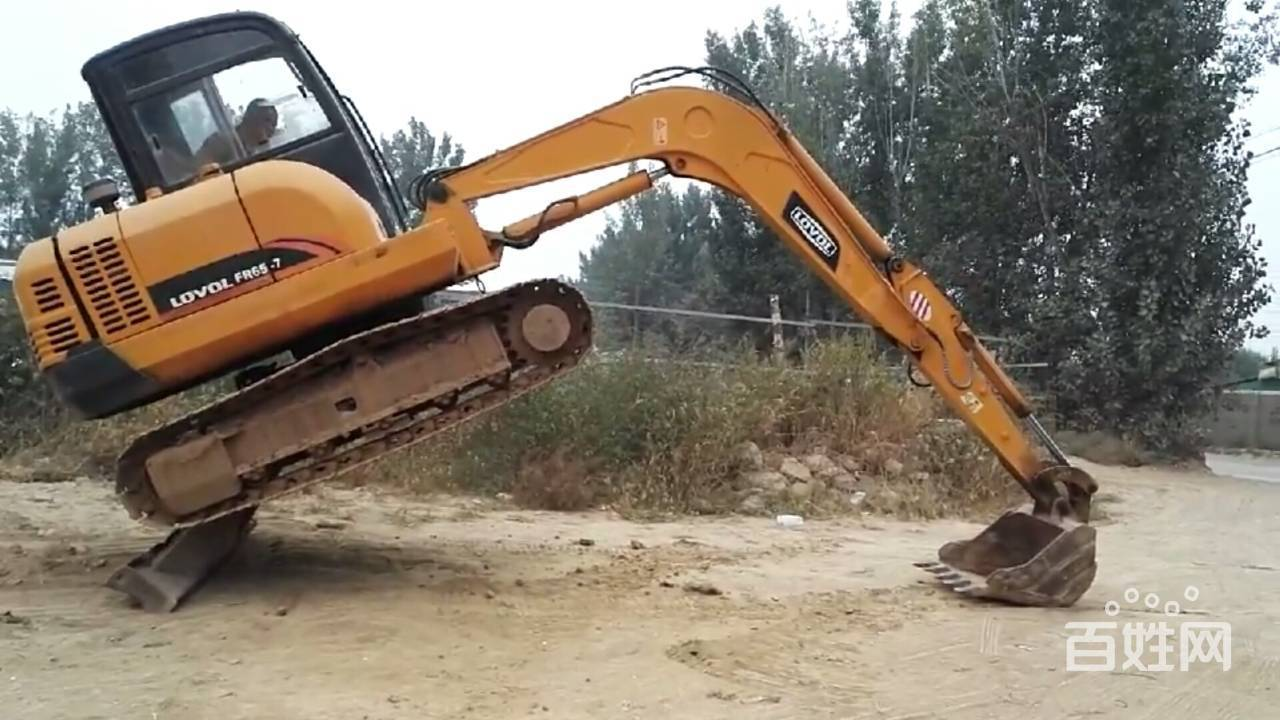excavator: (2, 1, 1114, 628)
